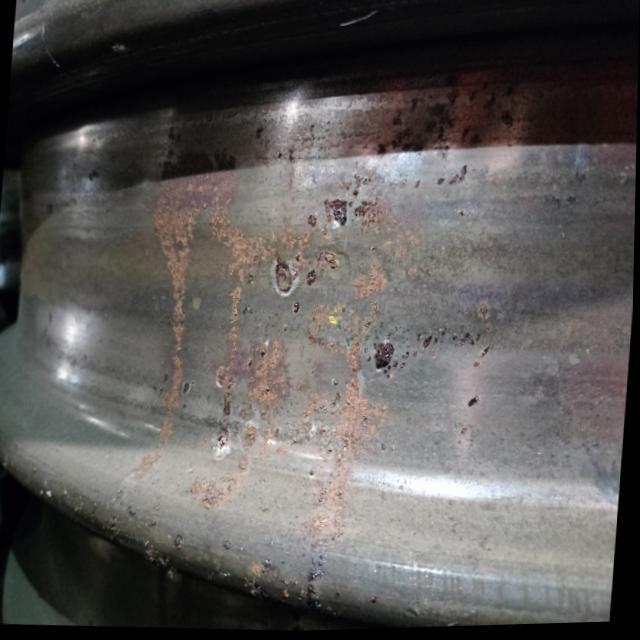Blue hole: (320, 203, 367, 246), (374, 324, 404, 386), (266, 251, 298, 301)
